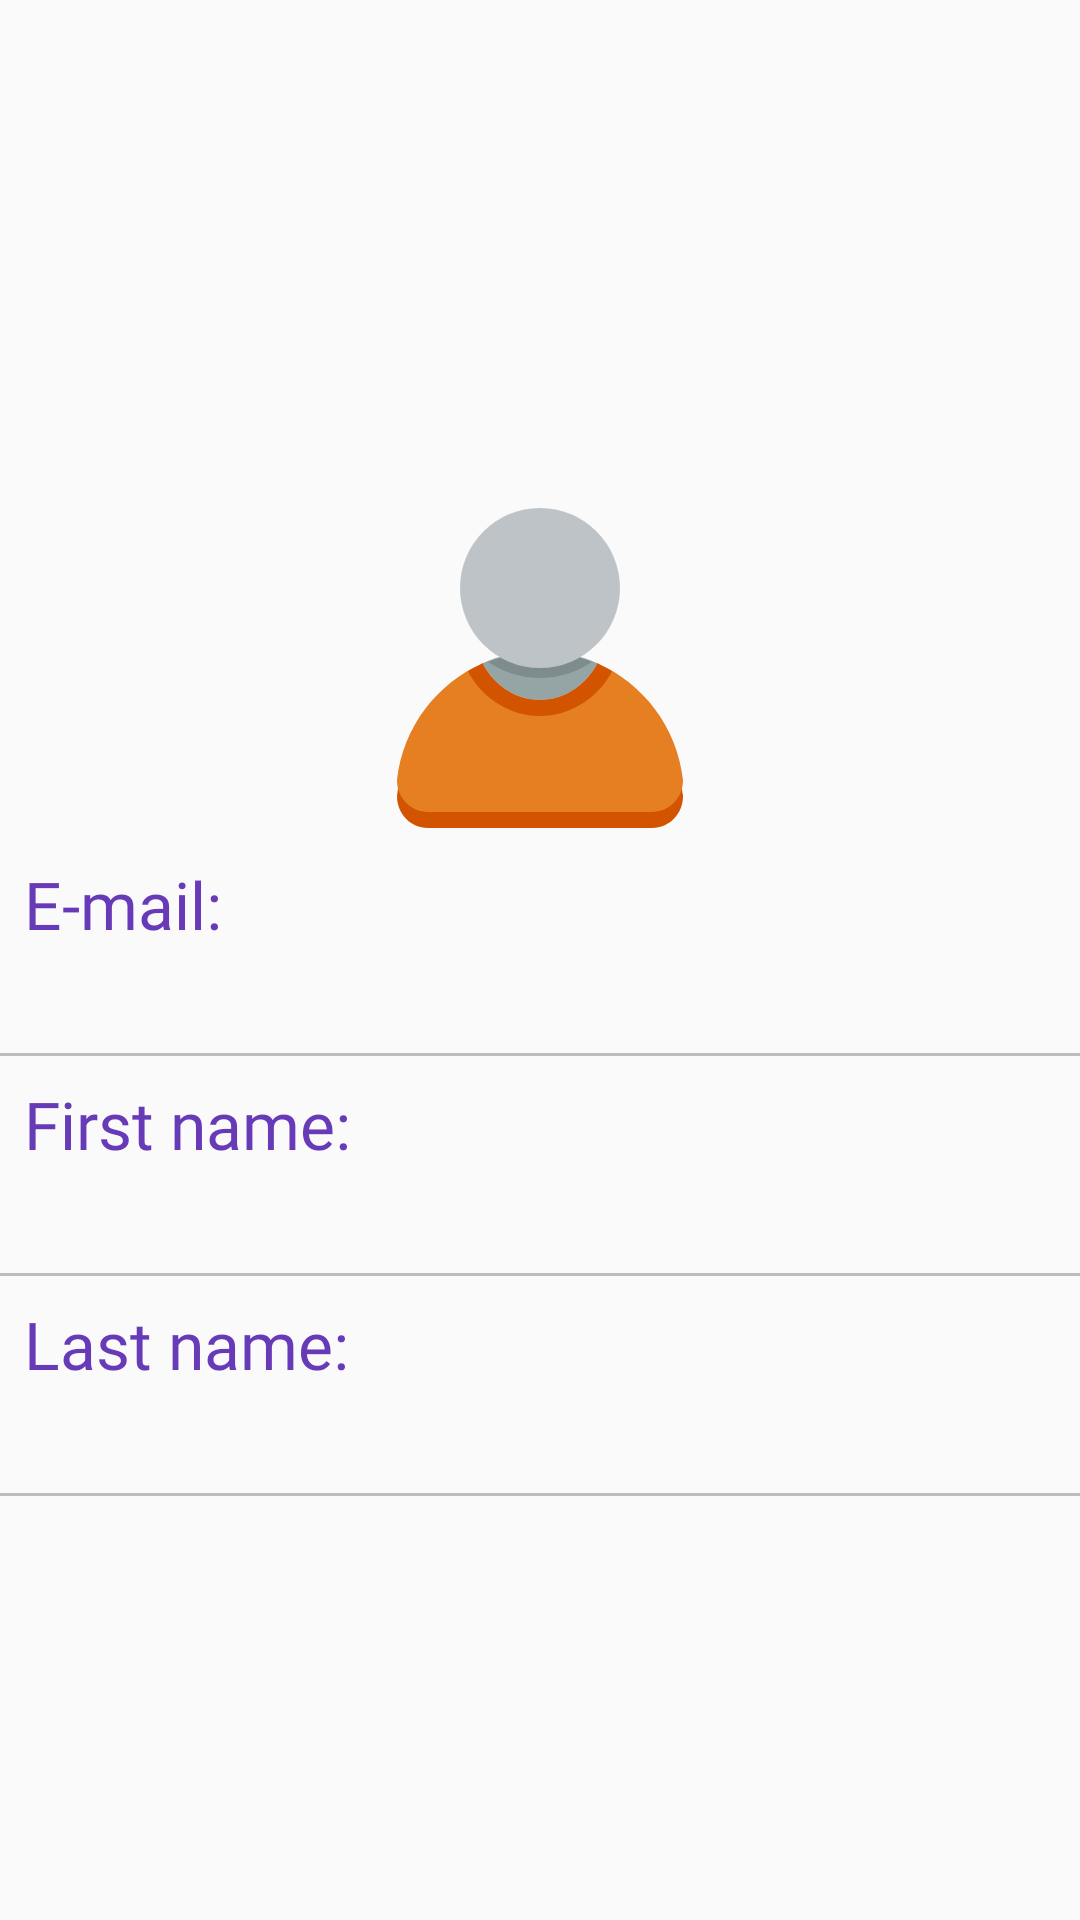

Named icons in this screenshot (1080w x 1920h) and their centers, (x,y):
user: (540,668)
